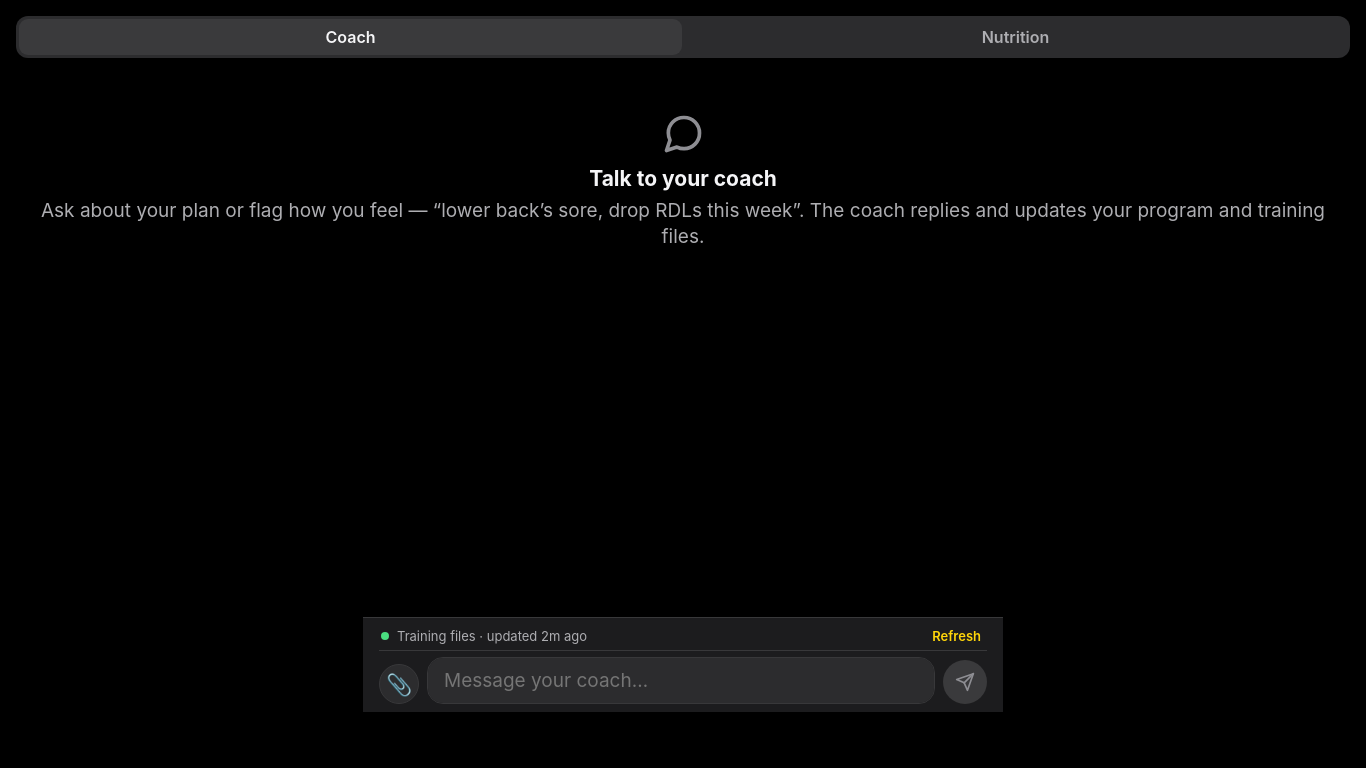
it: CoachPane — background context refresh › never refreshes while a send is in flight (prompt caching stays intact)
The image size is (1366, 768).
Type "plan my week" into the text box with placeholder "Message your coach…" at (681, 680), box [427,657,935,704]
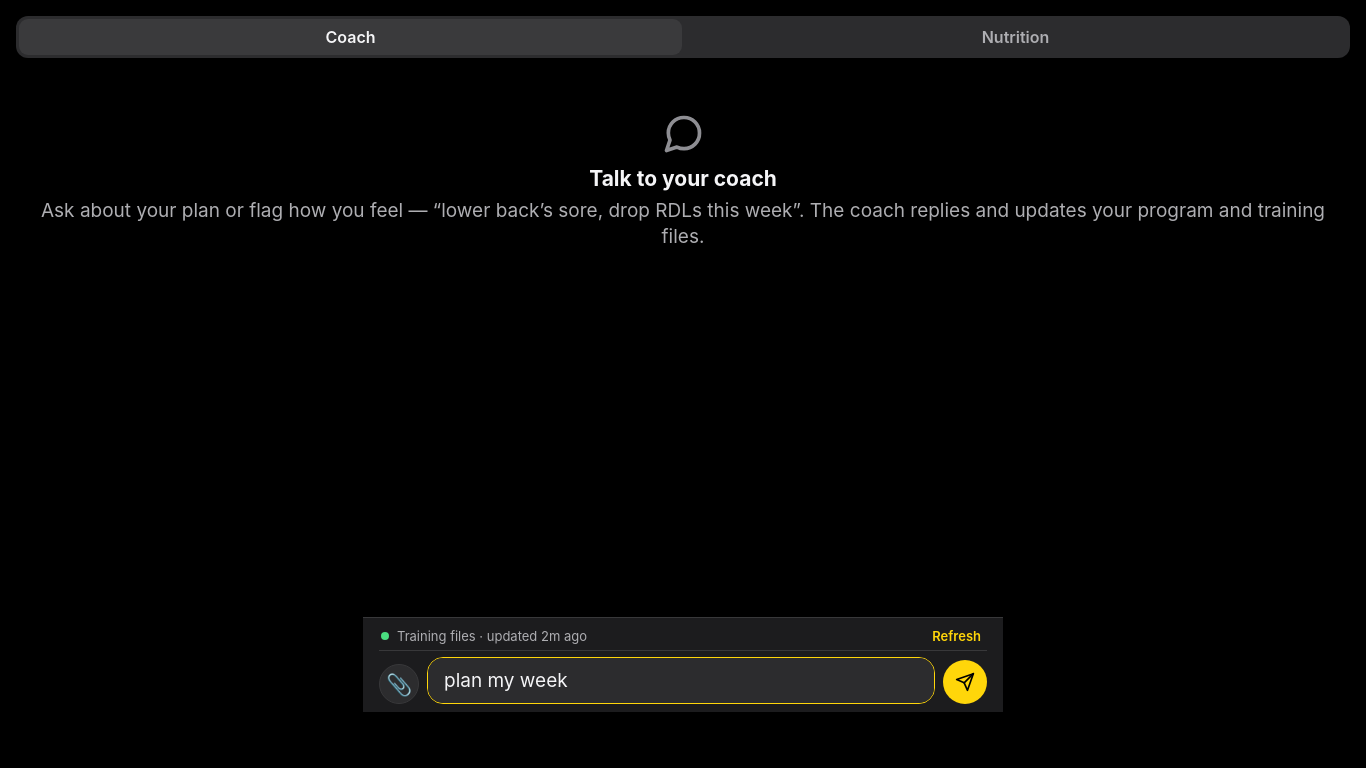
Click the button named "Send message" at (965, 682), box [943,660,987,704]
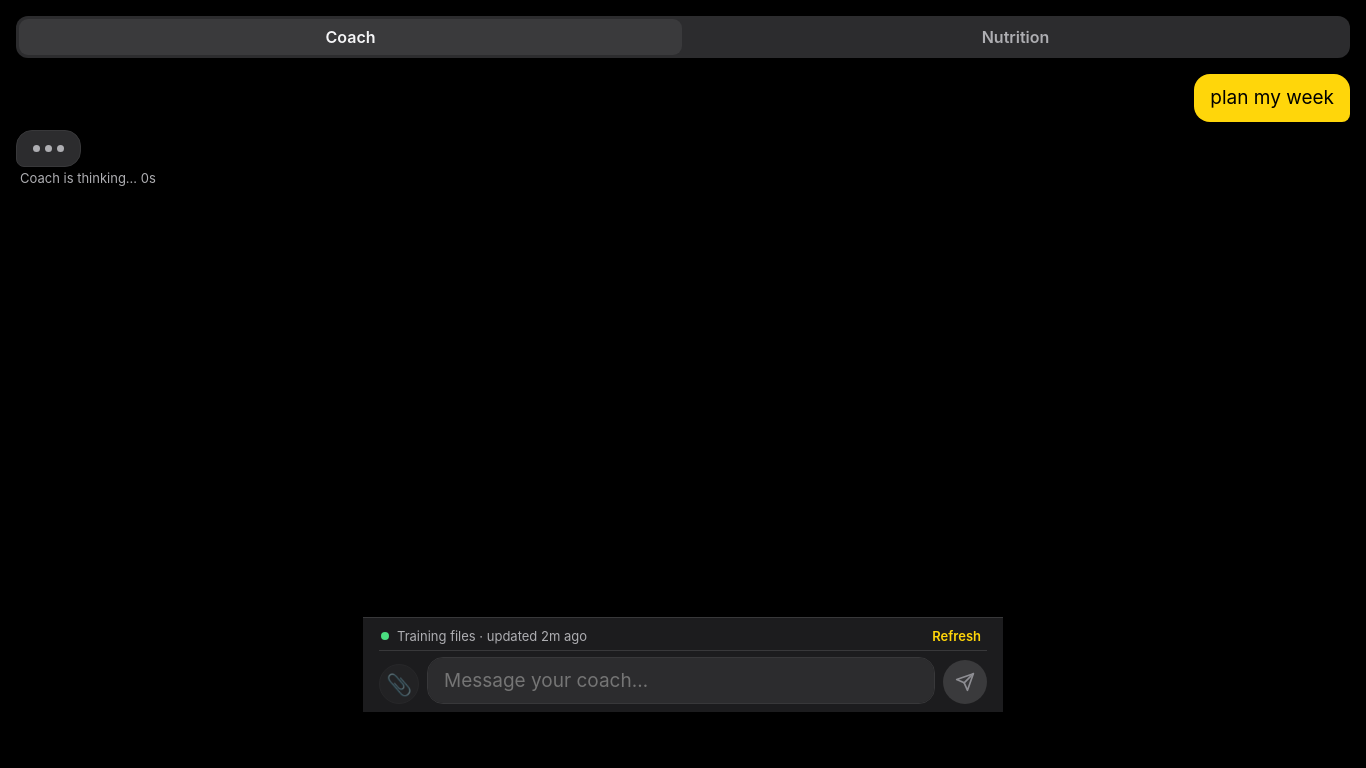
Check: the text "Coach is thinking… 0s" is shown, box [16,166,160,187]
